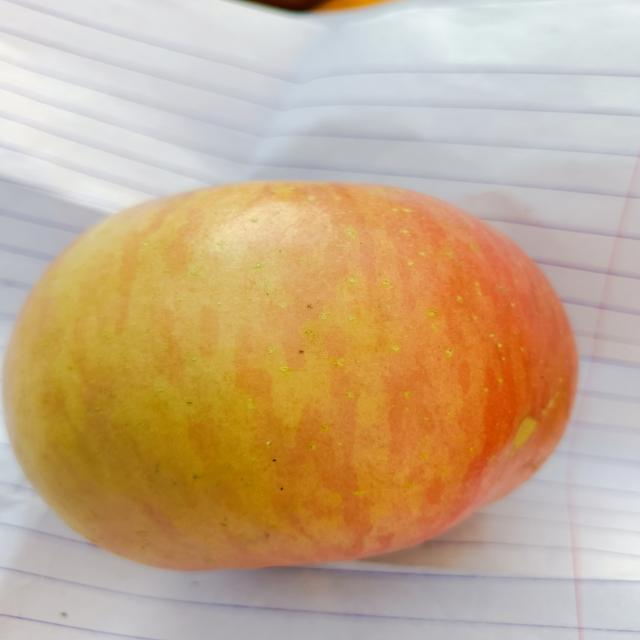Fresh Apple: (3, 176, 567, 568)
